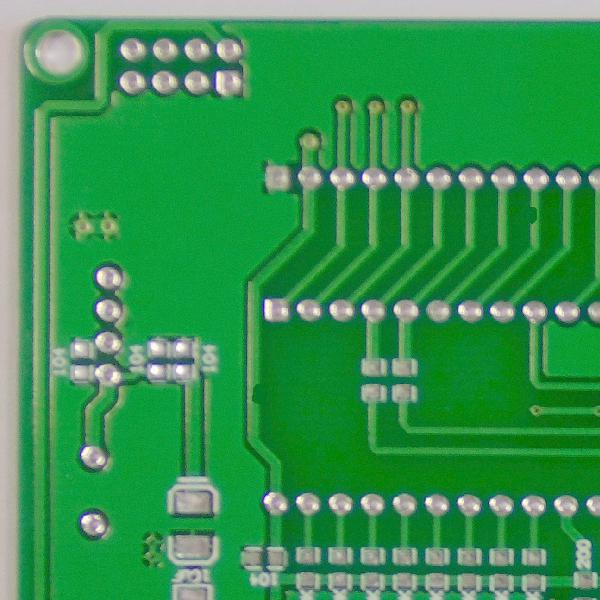mouse_bite: (246, 378, 266, 409), (522, 202, 544, 227)
